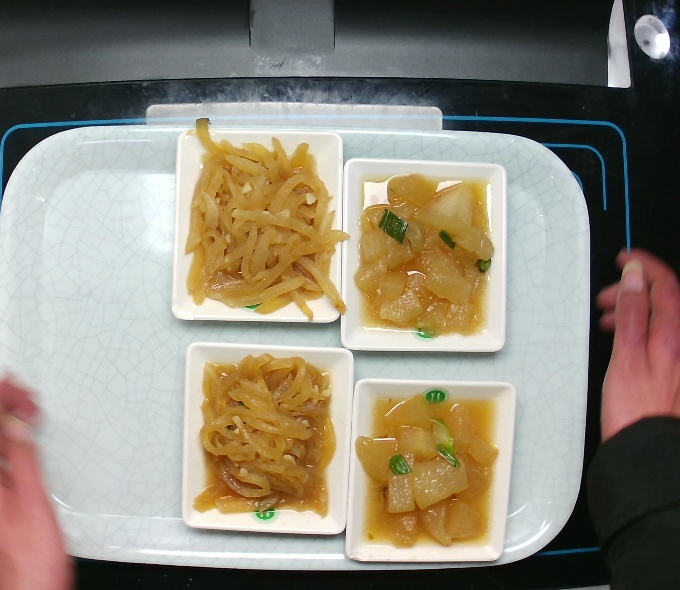wcq-DongGua: (349, 167, 507, 345), (348, 381, 506, 559)
wcq-LuoBoSi: (181, 115, 355, 325), (190, 351, 350, 524)
